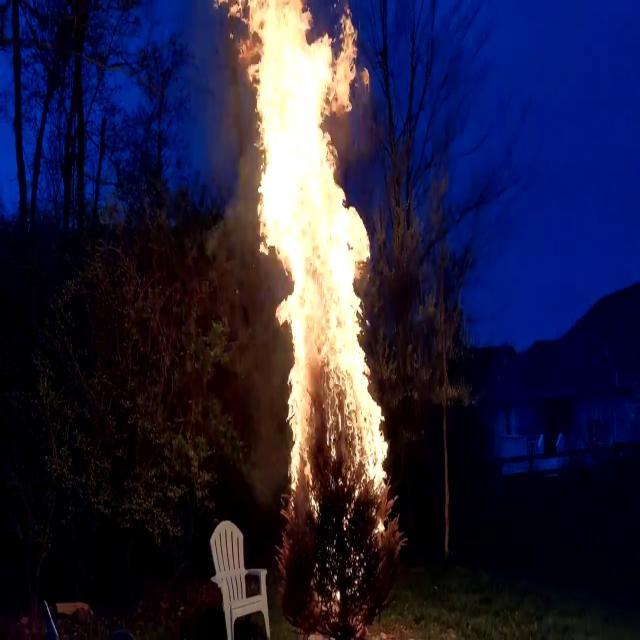Fire: (218, 2, 390, 516)
